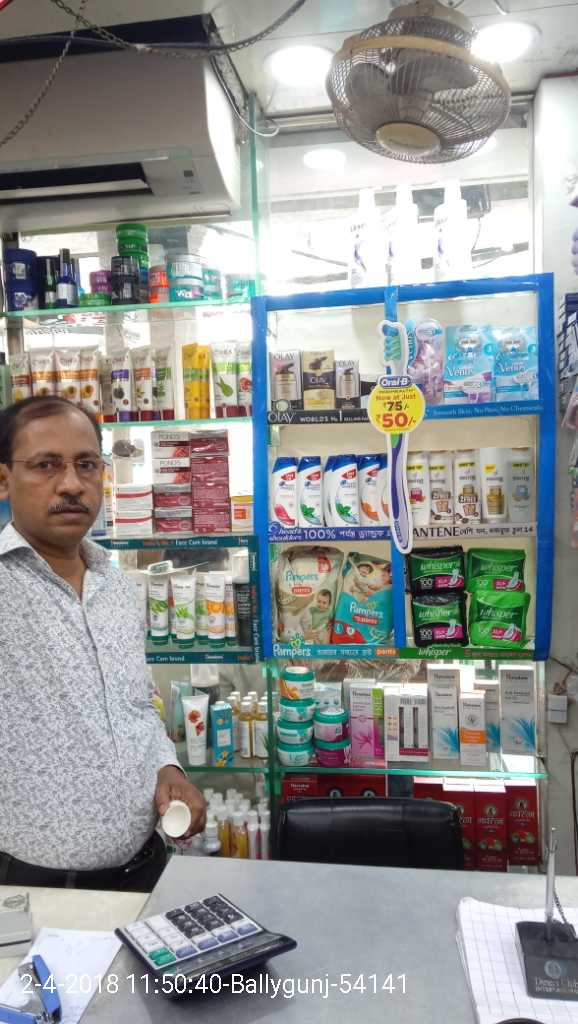venus: (446, 326, 490, 399), (498, 325, 537, 402), (419, 318, 443, 389)
